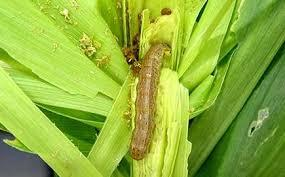fallarmy_worm: (127, 38, 170, 164)
